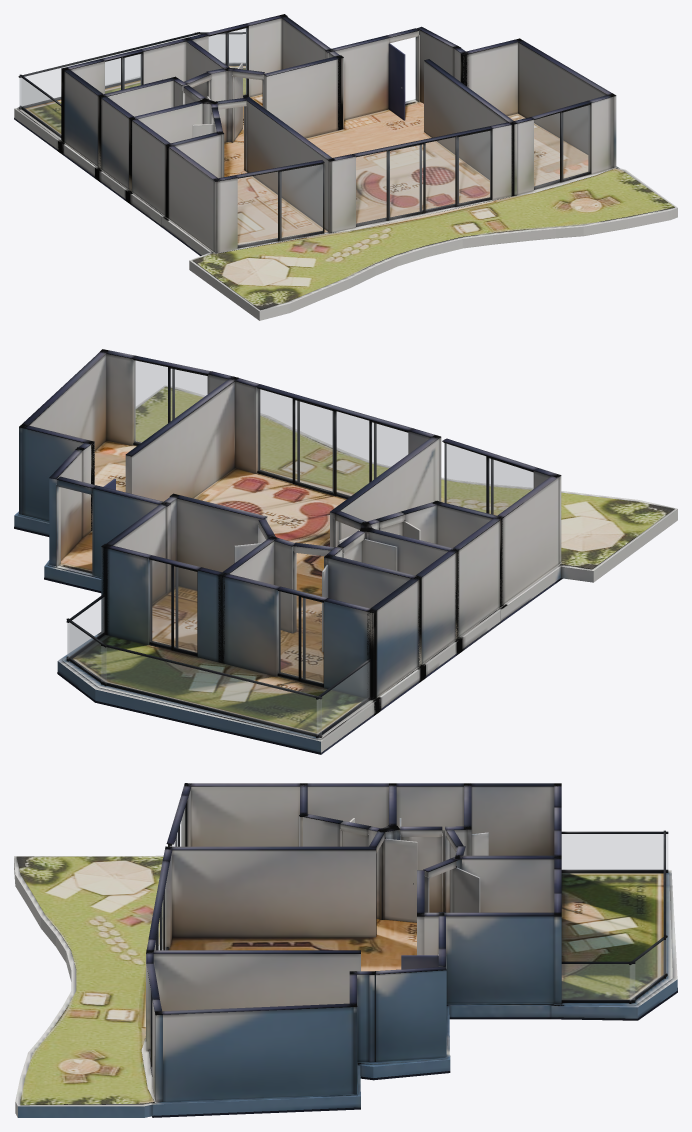
The picture shows the model from 3 angles, top to bottom: view 1: azimuth 30°, elevation 25°; view 2: azimuth 150°, elevation 25°; view 3: azimuth 270°, elevation 25°; orthographic projection. The views are drawn at different scales.
Visible parts, largest first — view 1: plan, glass2_m, glass4_m, glass3_m, railg0_m, railg3_m, glass1_m, glass0_m, railg1_m; view 2: plan, glass2_m, railg0_m, glass4_m, glass3_m, glass1_m, glass0_m, railg3_m, railg1_m, railg2_m; view 3: plan, railg3_m, railg2_m, railg1_m.
Boxes of the visible parts, x1=… form: plan: x1=14, y1=14, x2=677, y2=320; glass2_m: x1=356, y1=131, x2=490, y2=224; glass4_m: x1=238, y1=164, x2=322, y2=245; glass3_m: x1=534, y1=105, x2=589, y2=187; railg0_m: x1=19, y1=34, x2=198, y2=106; railg3_m: x1=20, y1=78, x2=60, y2=134; glass1_m: x1=209, y1=28, x2=246, y2=95; glass0_m: x1=105, y1=54, x2=141, y2=93; railg1_m: x1=195, y1=34, x2=245, y2=63; plan: x1=14, y1=349, x2=677, y2=754; glass2_m: x1=258, y1=389, x2=407, y2=496; railg0_m: x1=101, y1=646, x2=321, y2=734; glass4_m: x1=444, y1=443, x2=533, y2=515; glass3_m: x1=134, y1=360, x2=207, y2=443; glass1_m: x1=150, y1=560, x2=196, y2=652; glass0_m: x1=278, y1=591, x2=323, y2=683; railg3_m: x1=317, y1=662, x2=369, y2=735; railg1_m: x1=68, y1=623, x2=106, y2=682; railg2_m: x1=67, y1=597, x2=104, y2=658; plan: x1=14, y1=783, x2=677, y2=1117; railg3_m: x1=562, y1=834, x2=667, y2=869; railg2_m: x1=562, y1=964, x2=634, y2=999; railg1_m: x1=630, y1=938, x2=666, y2=1000.
Size of the model in its own units: 13.87 by 2.62 by 15.53.
Materials: 2 (1 with a texture image).
